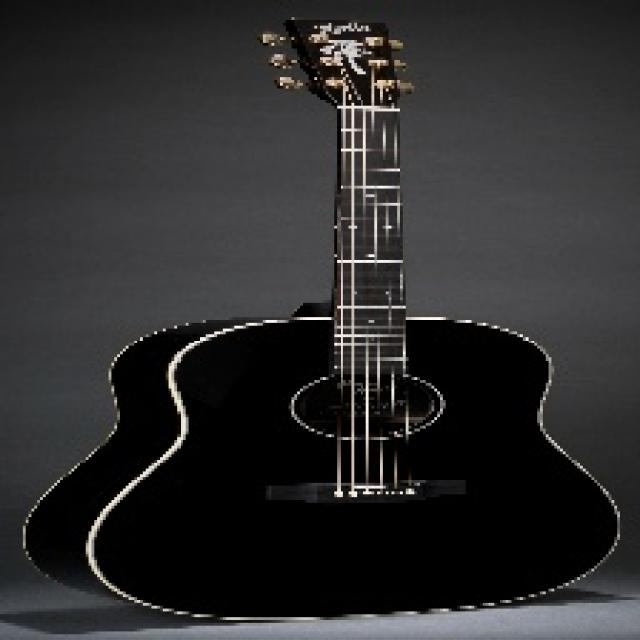guitar: (22, 19, 622, 618)
